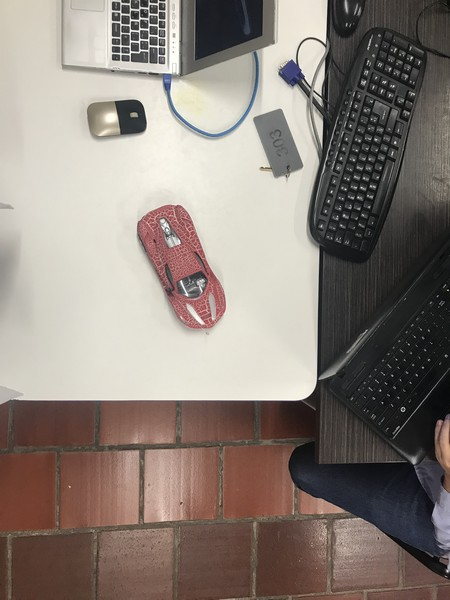RC: (135, 202, 231, 332)
